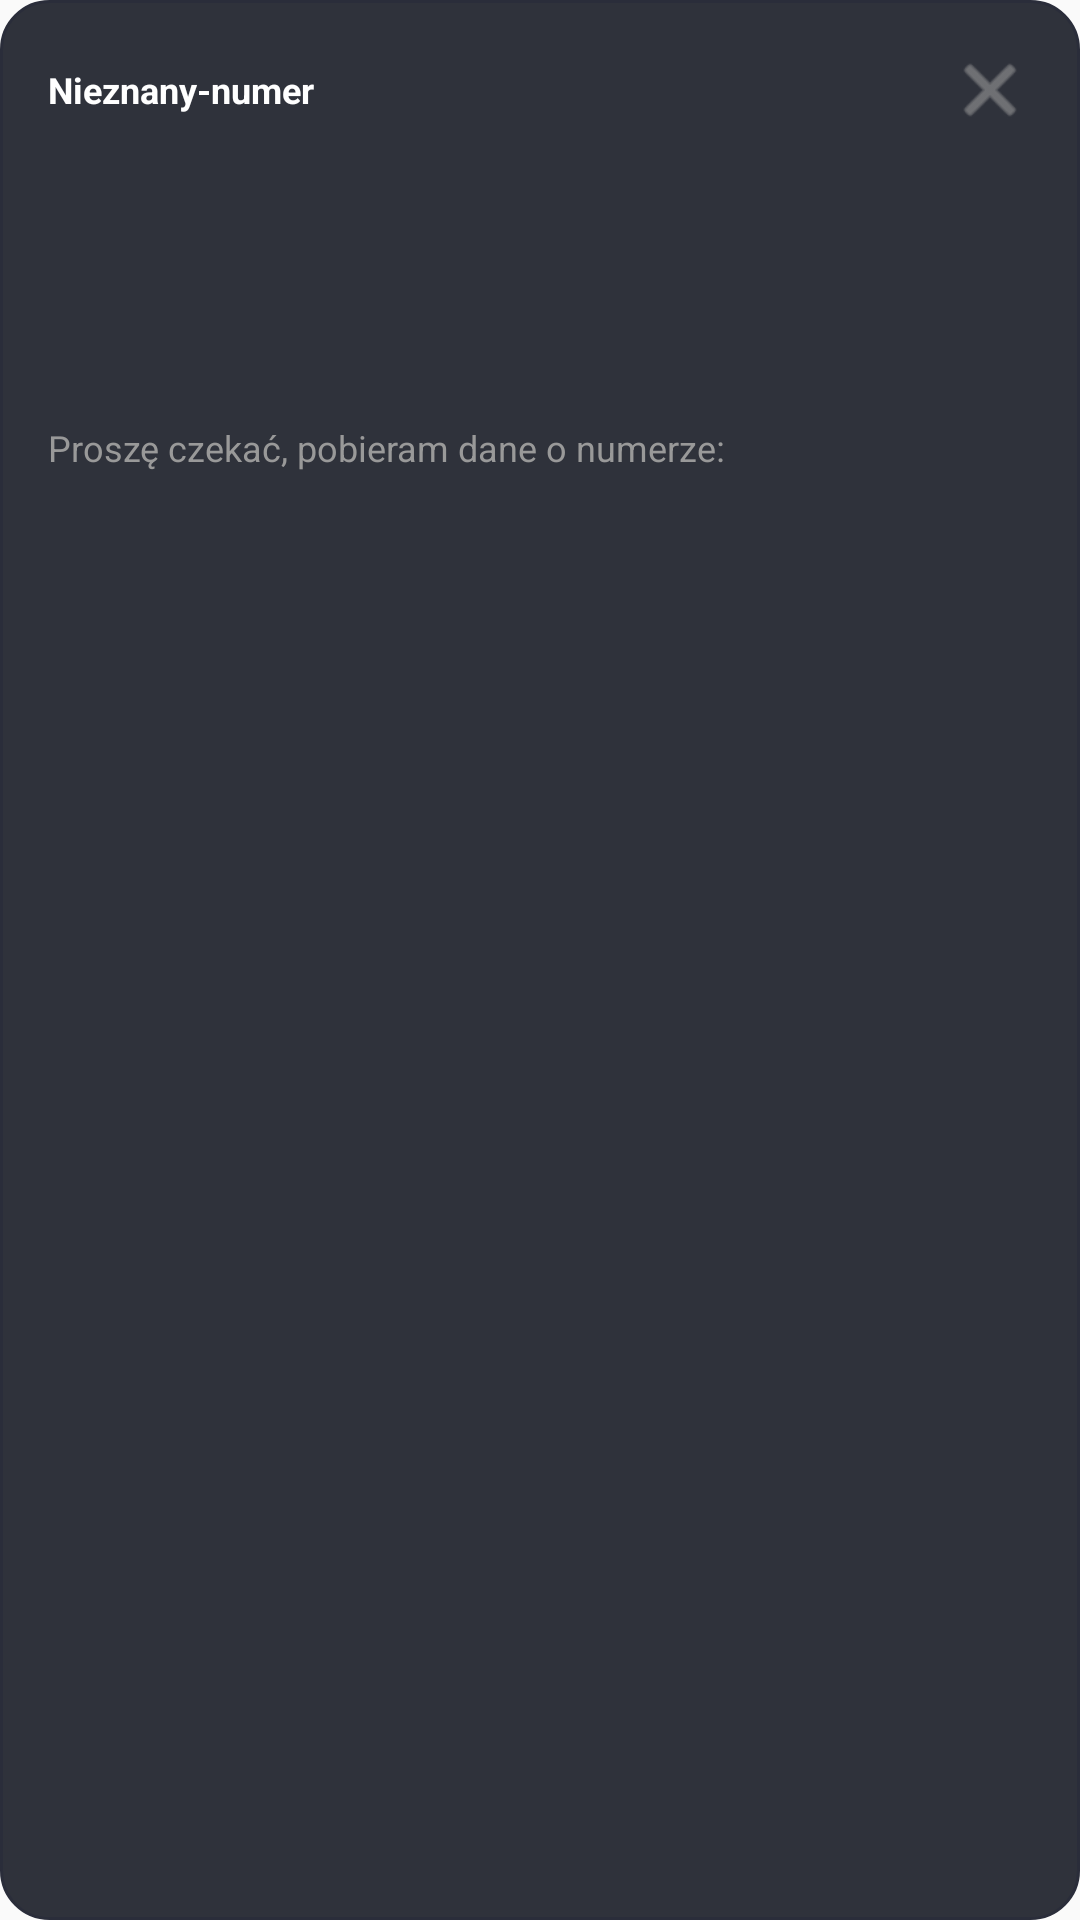

Icon click points for this 1080*1920 phone screenshot, format [x,y]:
Zamknij: [990,90]
